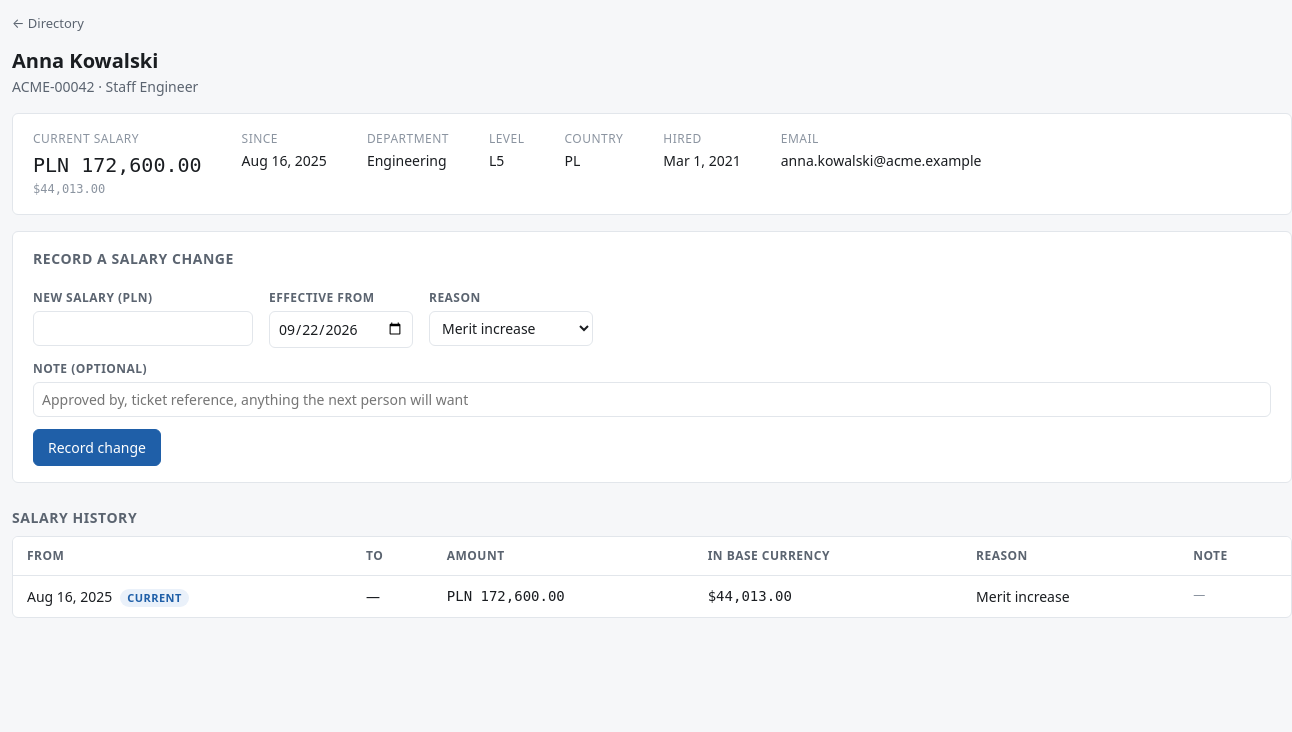
Test: recording a salary change › reloads the employee so the page shows the server's version
The image size is (1292, 732).
Type "180000" into the field labelled "New salary (PLN)" at (143, 328), box x1=33 y1=310 x2=253 y2=346
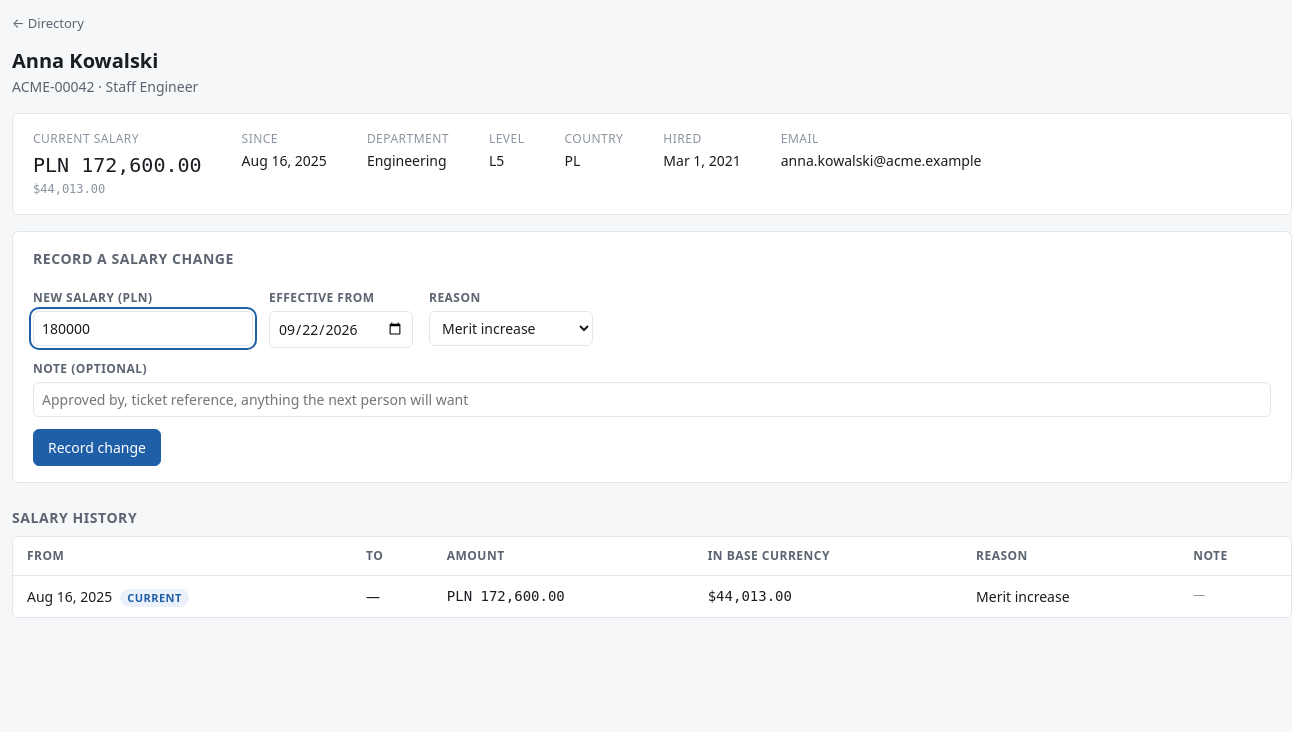
Click the button "Record change" at (97, 447), box x1=33 y1=428 x2=161 y2=466
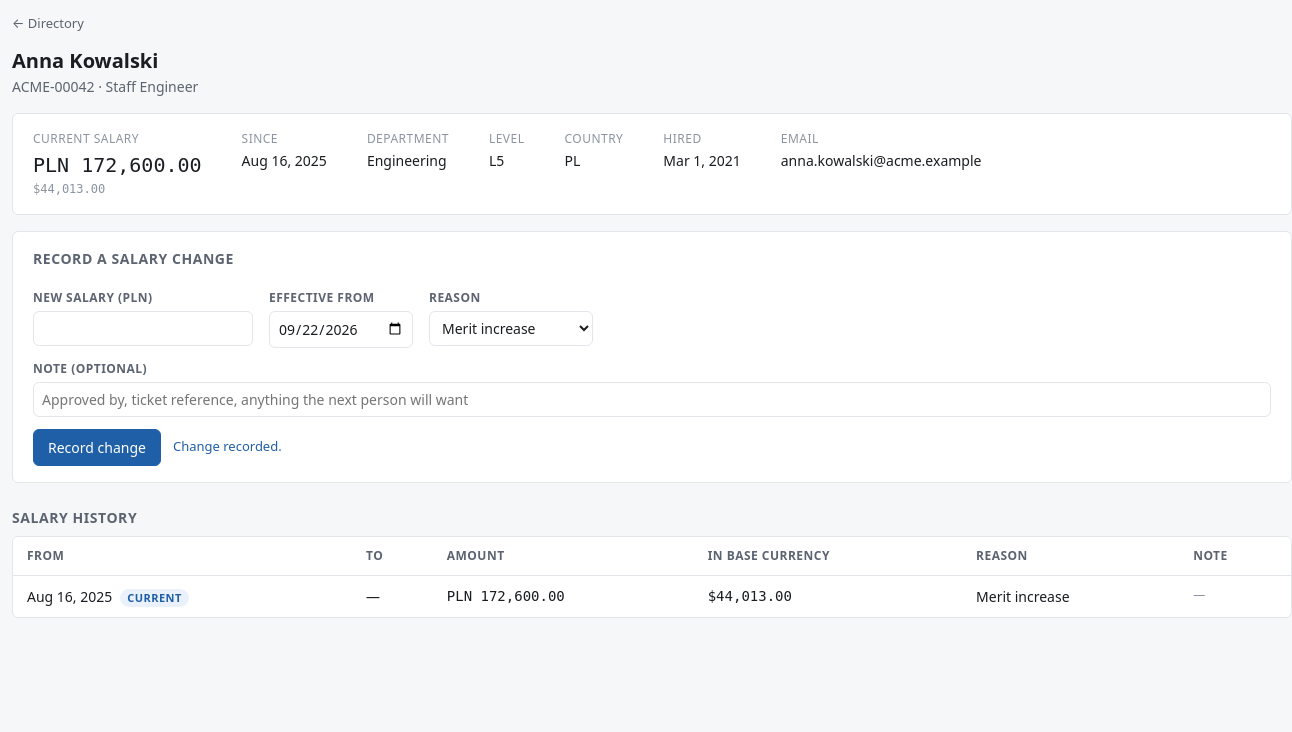
expect the text "Change recorded." is shown: met, box x1=173 y1=437 x2=282 y2=457
